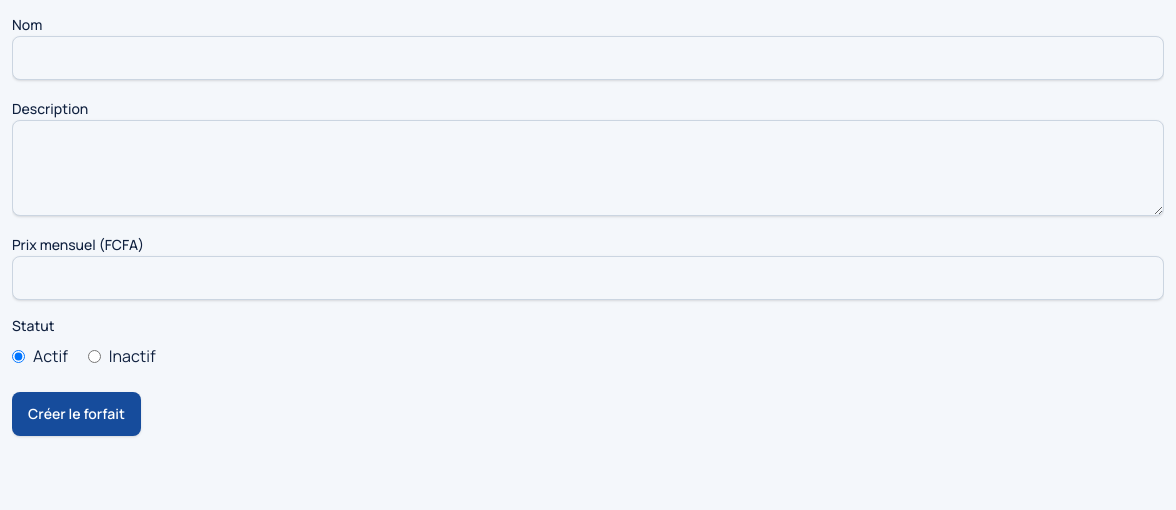
it: PackageForm › affiche les erreurs françaises et focalise le premier champ invalide
This screenshot has width=1176, height=510.
Click the button "Créer le forfait".
click(76, 414)  # box [12,392,141,436]
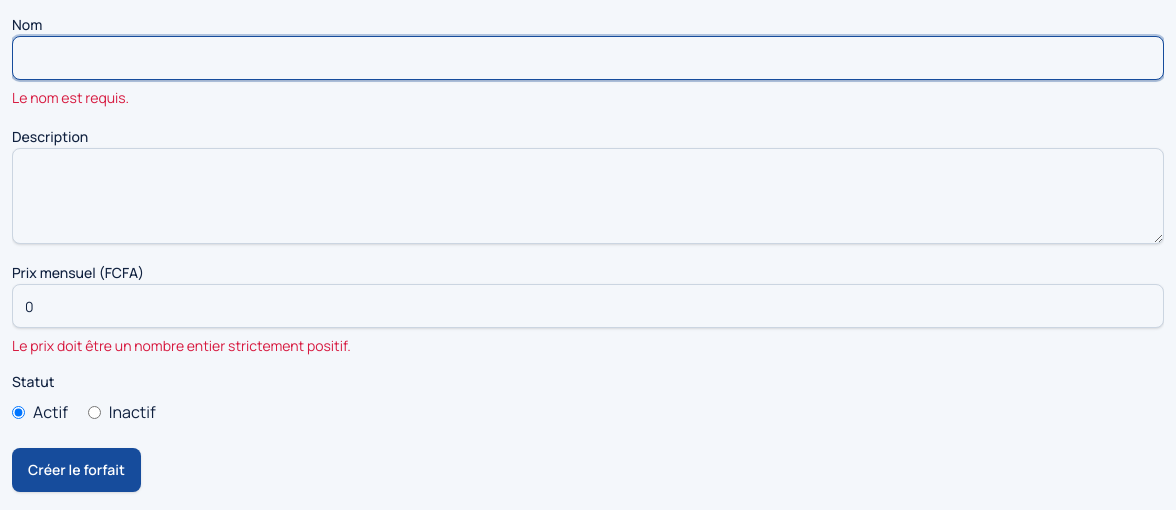
Expected: the text "Le nom est requis." is shown, [12,88,129,107]
